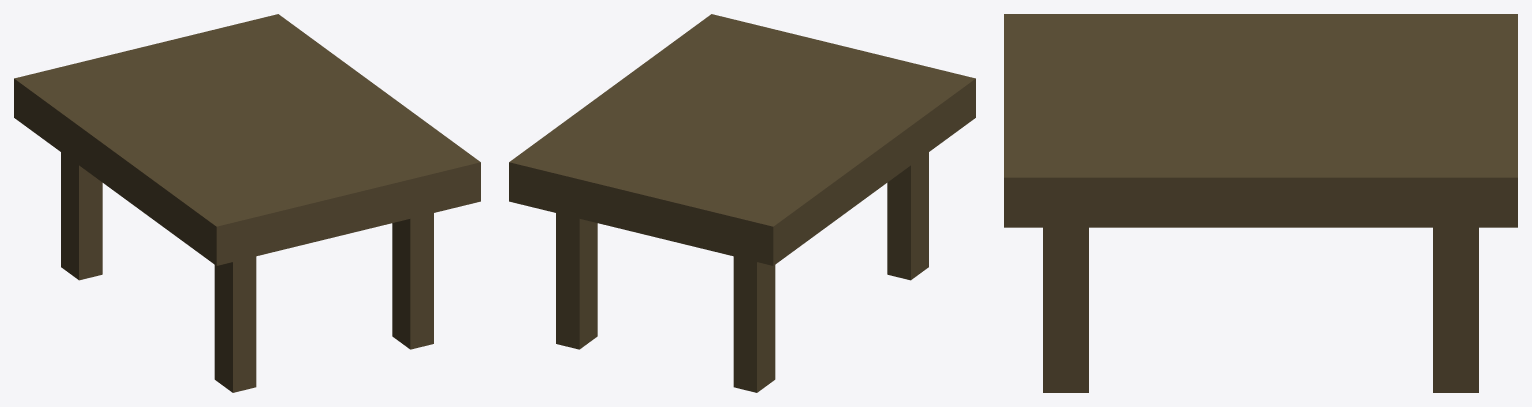
The model's file is mesita.fbx.
3 renders of one model, left to right at view 1: azimuth 30°, elevation 25°; view 2: azimuth 150°, elevation 25°; view 3: azimuth 270°, elevation 25°, orthographic. The views are drawn at different scales.
Visible parts, largest first — view 1: MESITA; view 2: MESITA; view 3: MESITA.
Part boxes in pixels (x1,y1,x2,y2): MESITA: (14, 14, 480, 392); MESITA: (509, 14, 975, 392); MESITA: (1004, 14, 1517, 392).
Bounding box in the file's own units: 100 × 66.96 × 133.
